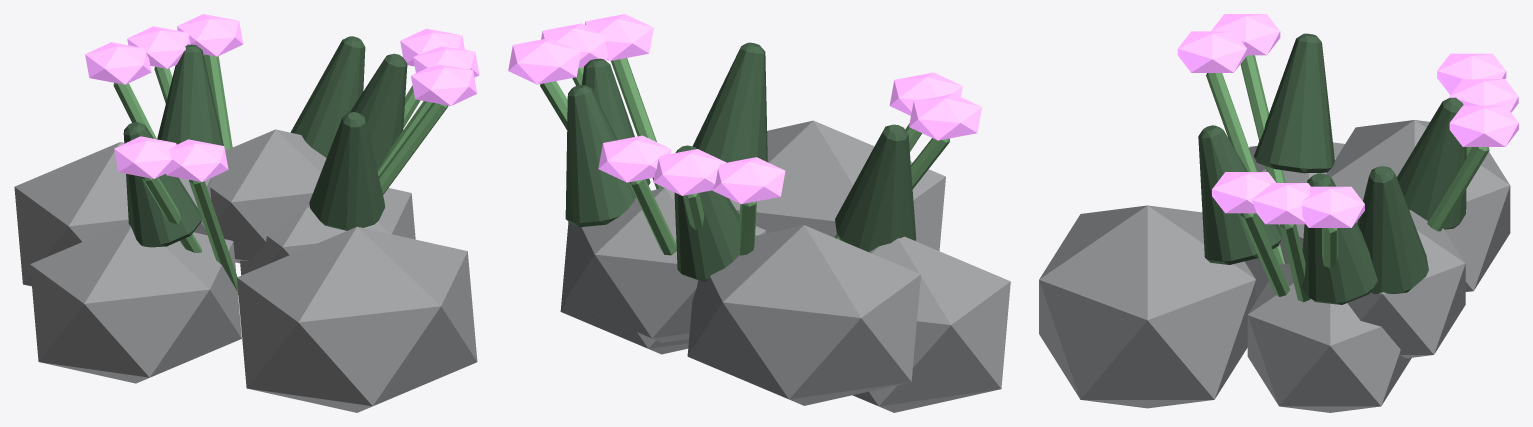
Rendered from gravewood_moss_and_nightshade.glb.
3 views of the same model, side by side, from view 1: azimuth 30°, elevation 25°; view 2: azimuth 150°, elevation 25°; view 3: azimuth 270°, elevation 25° (orthographic). The views are drawn at different scales.
Size of the model in its own units: 1.47 by 0.9074 by 1.3.
